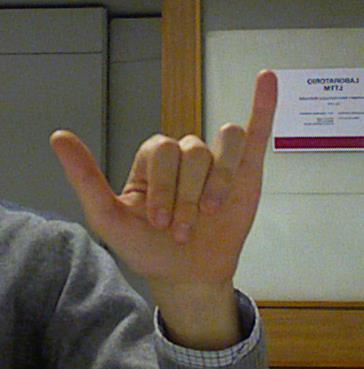clockwise: (37, 69, 284, 277)
